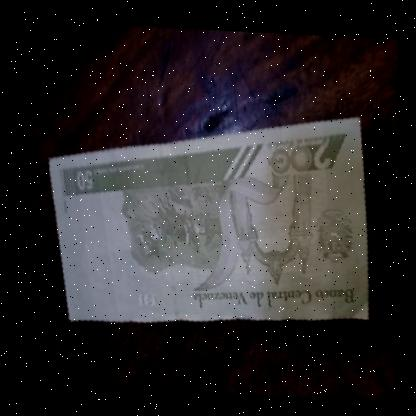fifty-back-vef: (14, 54, 406, 380)
